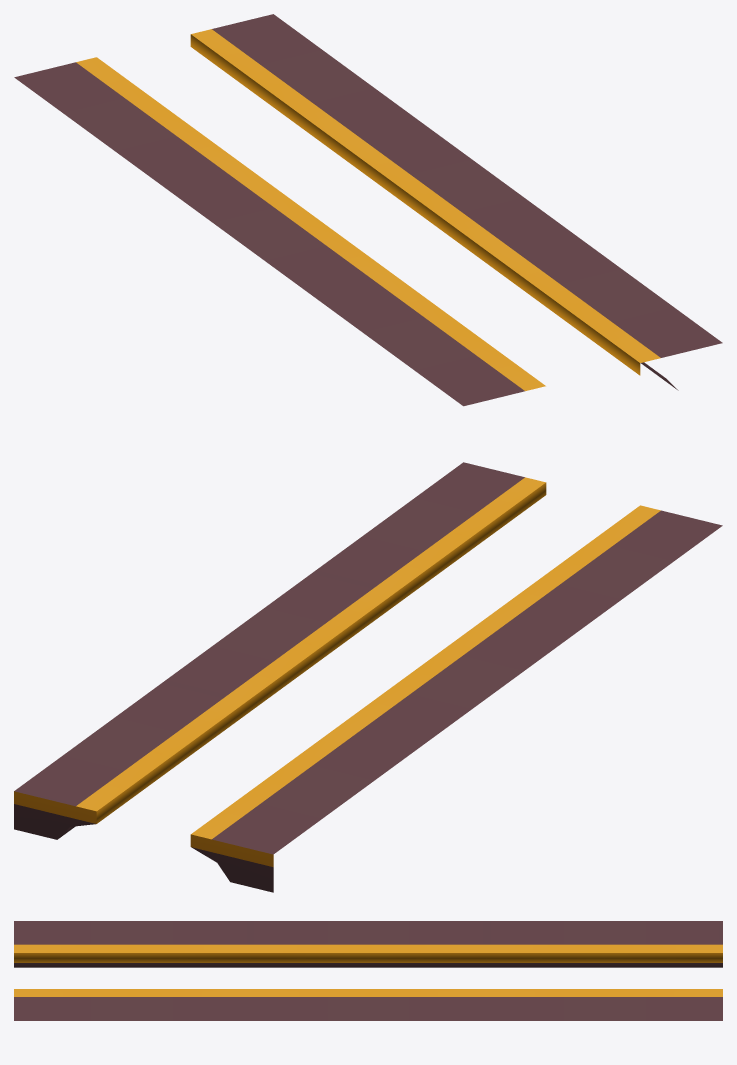
File: 1.100_SanFrancisco_station_platforms.glb
3 views of the same model, one above another, from view 1: azimuth 30°, elevation 25°; view 2: azimuth 150°, elevation 25°; view 3: azimuth 270°, elevation 25° (orthographic). The views are drawn at different scales.
Parts seen in each view (by area): view 1: 1.100_SanFrancisco_station_platforms; view 2: 1.100_SanFrancisco_station_platforms; view 3: 1.100_SanFrancisco_station_platforms.
Boxes of the visible parts, x1,y1,x2,y2 form: 1.100_SanFrancisco_station_platforms: (14,14,722,406); 1.100_SanFrancisco_station_platforms: (14,462,722,892); 1.100_SanFrancisco_station_platforms: (14,921,722,1020).
Bounding box in the file's own units: 60 × 8.43 × 180.
Materials: 1 (1 with a texture image).
